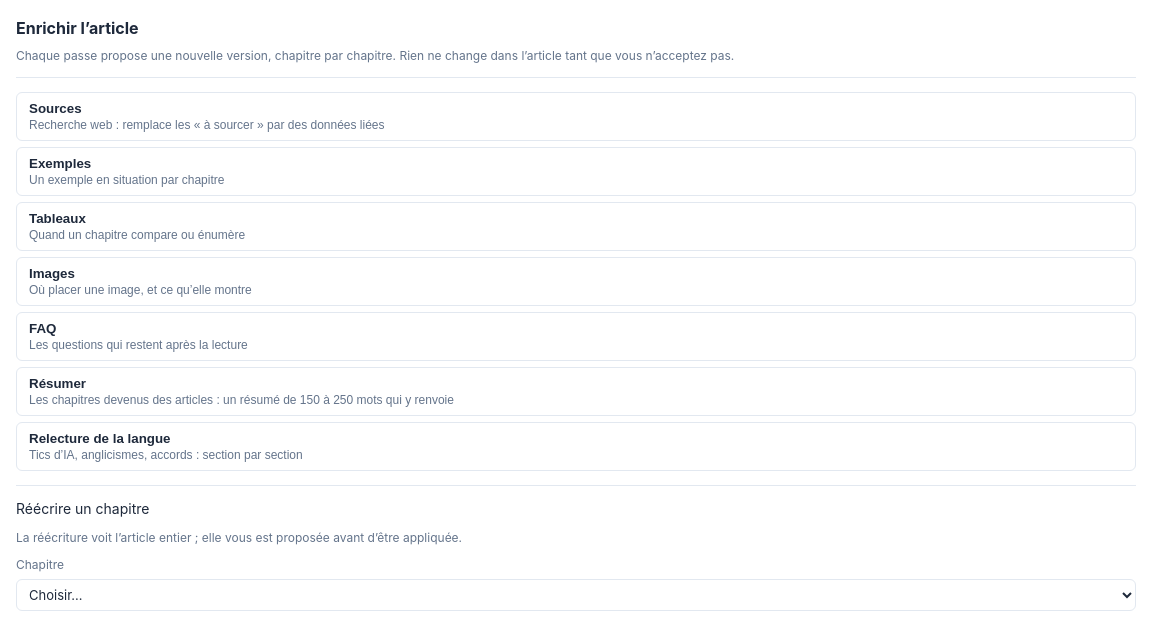
Scenario: EnrichmentPanel › FAQ refusée parce qu’une FAQ existe déjà : le message le dit
Click the button with test id "enrich-pass-faq" at (138, 345), box x1=16 y1=312 x2=1136 y2=361
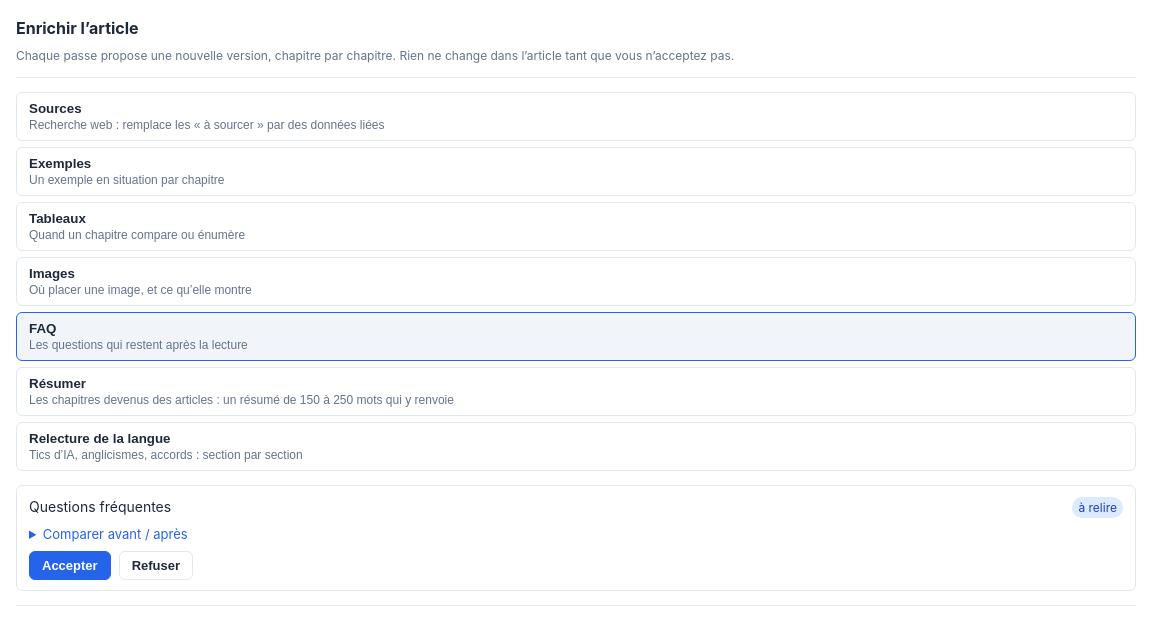
Click the button with test id "proposal-accept" at (70, 566), box x1=29 y1=551 x2=111 y2=580
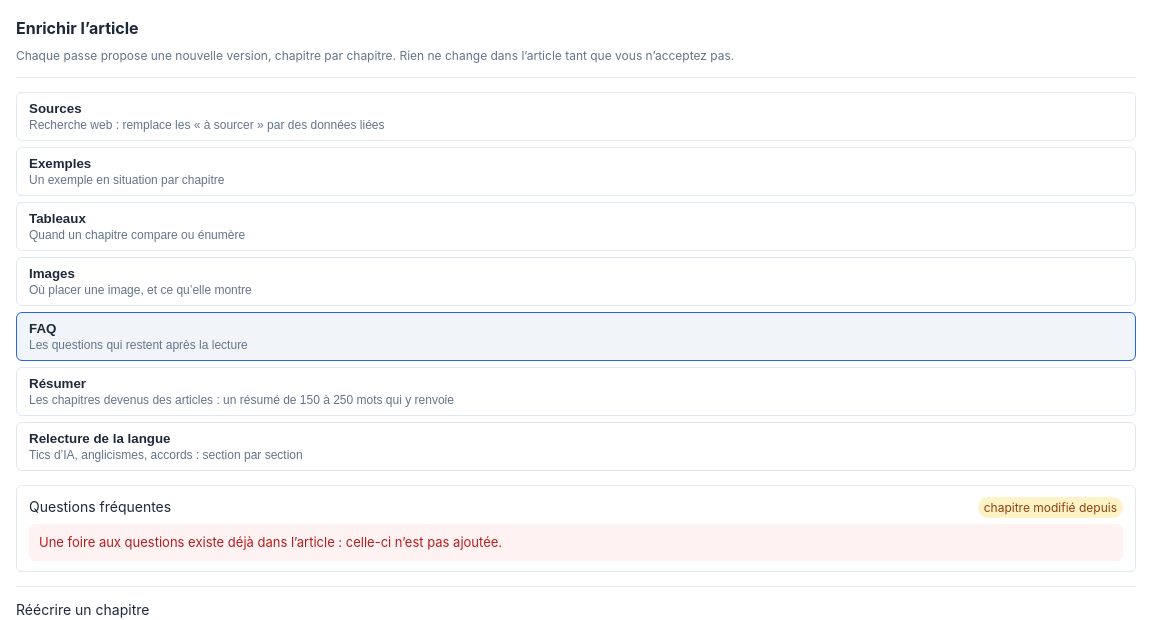
Now the list item shows "foire aux questions existe déjà", box x1=39 y1=534 x2=502 y2=550
